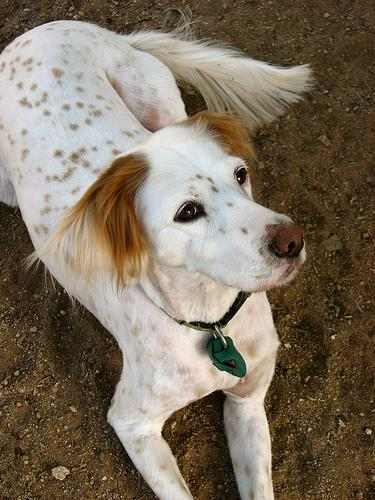dog-english_setter: (84, 109, 305, 289)
